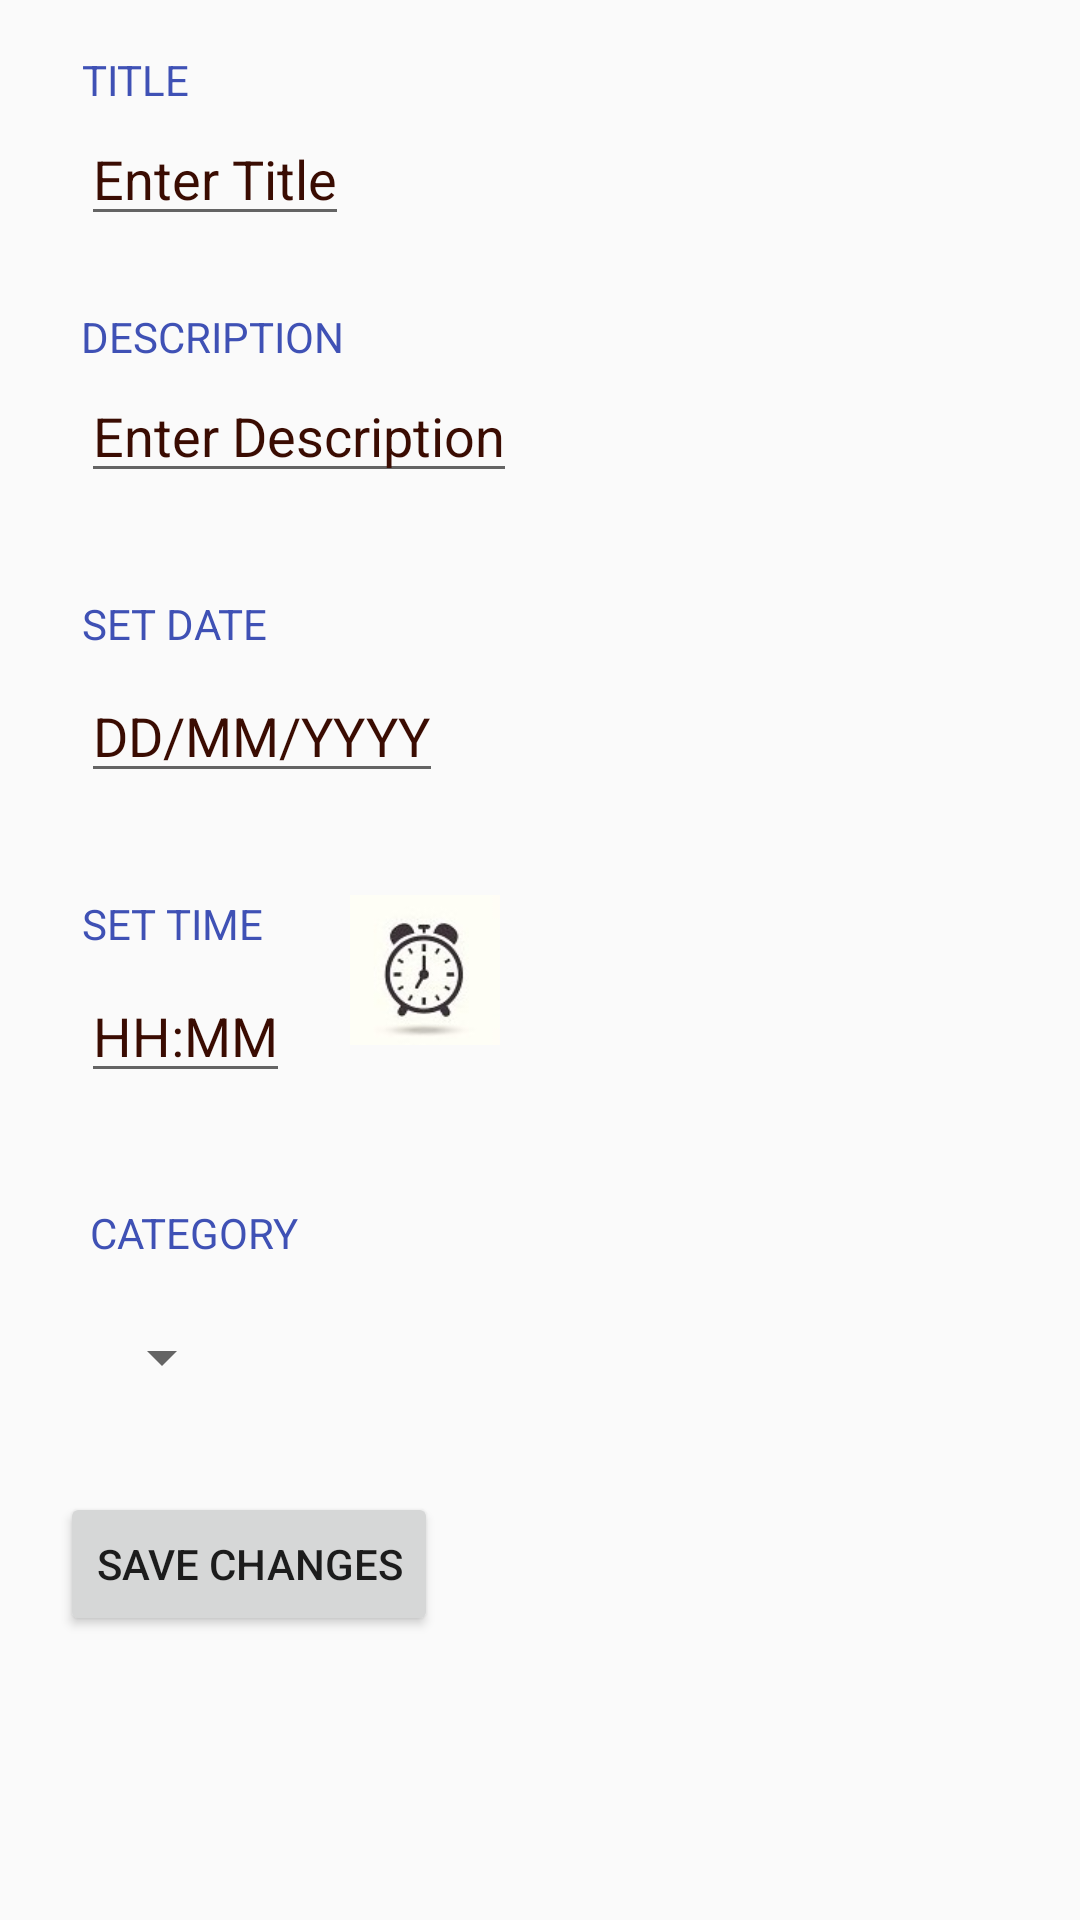

Icons on this 1080px x 1920px Android screen, each with the point to tap as [x,y]:
clock: [423,978]
